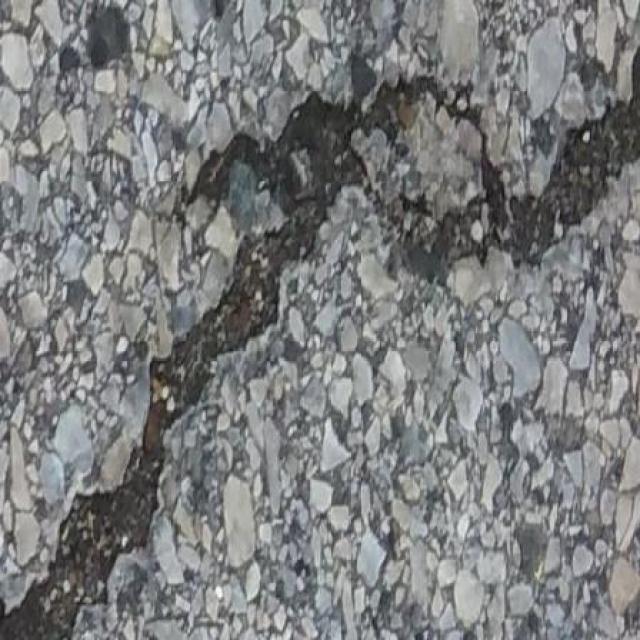Crack: (0, 48, 635, 640)
